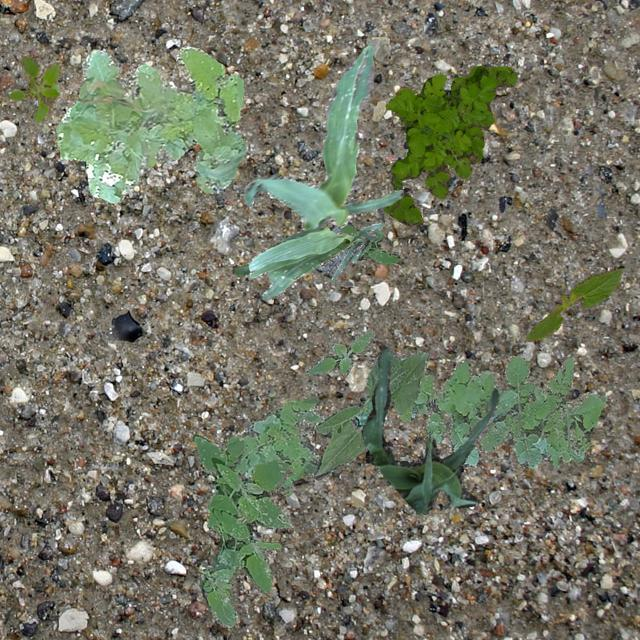crop: (235, 44, 402, 274), (362, 344, 498, 514), (312, 346, 428, 478), (248, 222, 382, 300), (524, 268, 622, 340)
weed: (56, 45, 244, 202), (397, 354, 606, 468), (384, 66, 516, 224), (192, 434, 294, 626), (232, 394, 324, 496), (8, 54, 62, 120), (306, 330, 374, 374), (338, 222, 398, 264)
